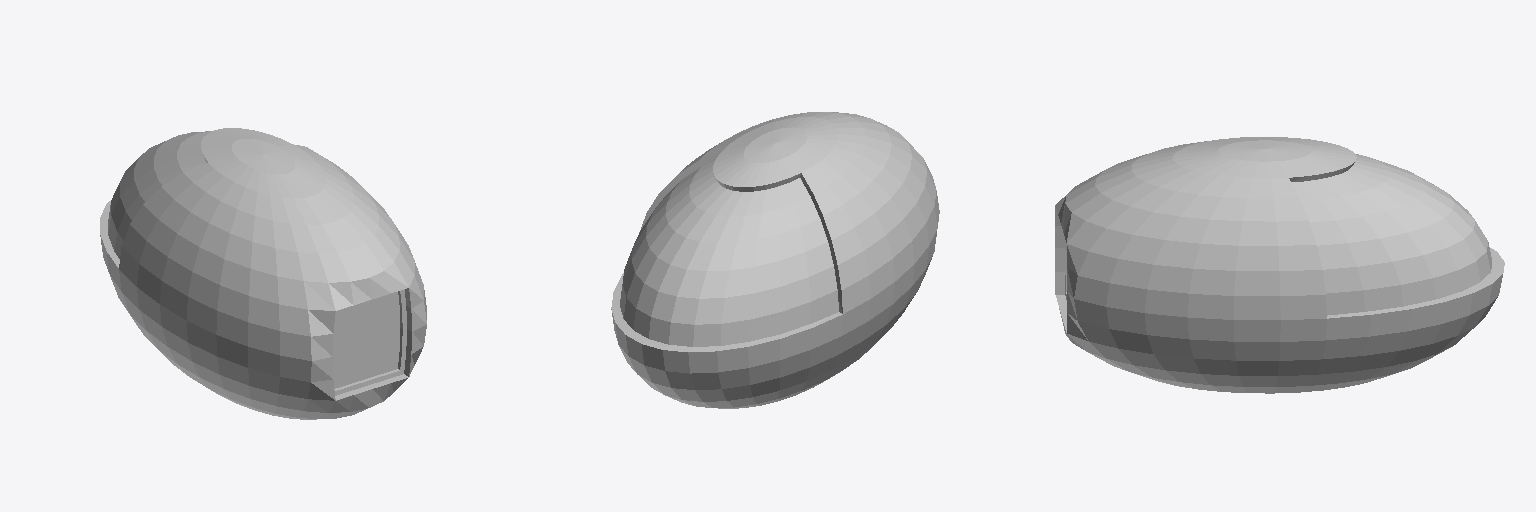
File: Pod.obj
The picture shows the model from 3 angles: view 1: azimuth 30°, elevation 25°; view 2: azimuth 150°, elevation 25°; view 3: azimuth 270°, elevation 25°; orthographic projection.
Parts seen in each view (by area): view 1: Sphere001, Screen; view 2: Sphere001, Screen; view 3: Sphere001, Screen.
Part boxes in pixels (bbox=[...]): Sphere001: bbox=[100, 128, 426, 419]; Screen: bbox=[108, 131, 211, 258]; Sphere001: bbox=[611, 112, 939, 408]; Screen: bbox=[620, 161, 838, 346]; Sphere001: bbox=[1055, 137, 1504, 393]; Screen: bbox=[1291, 154, 1491, 315].
Size of the model in its own units: 167 by 154 by 292.